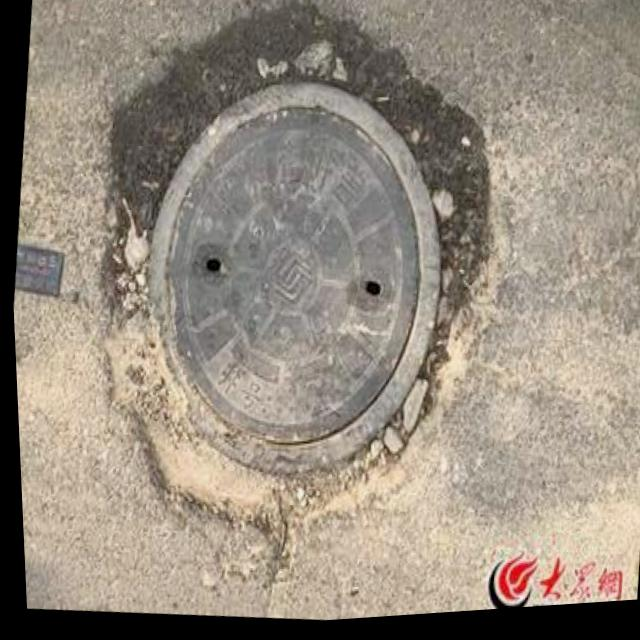manhole: (84, 47, 486, 539)
